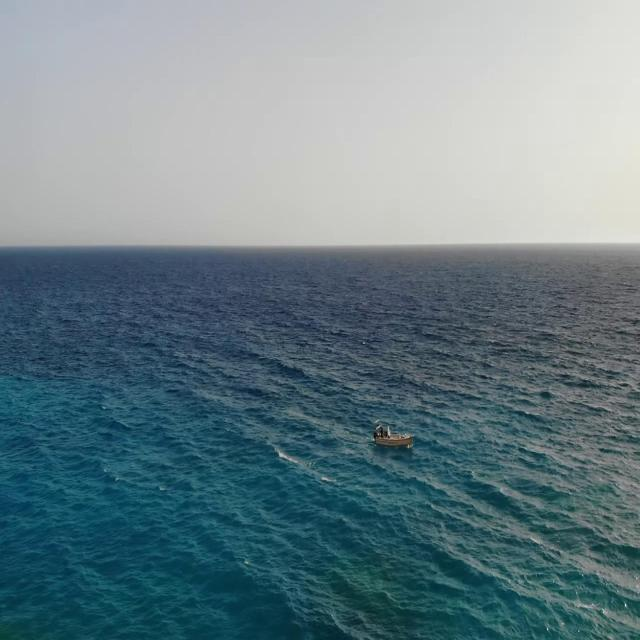boat: (372, 412, 402, 457)
